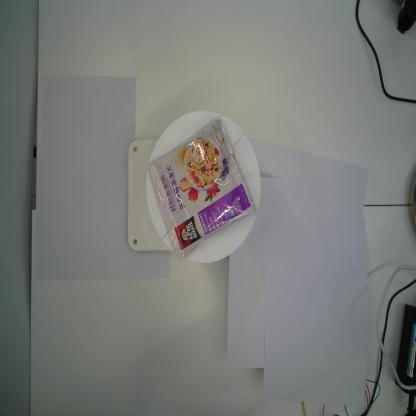Instant Drink: (146, 119, 256, 262)
